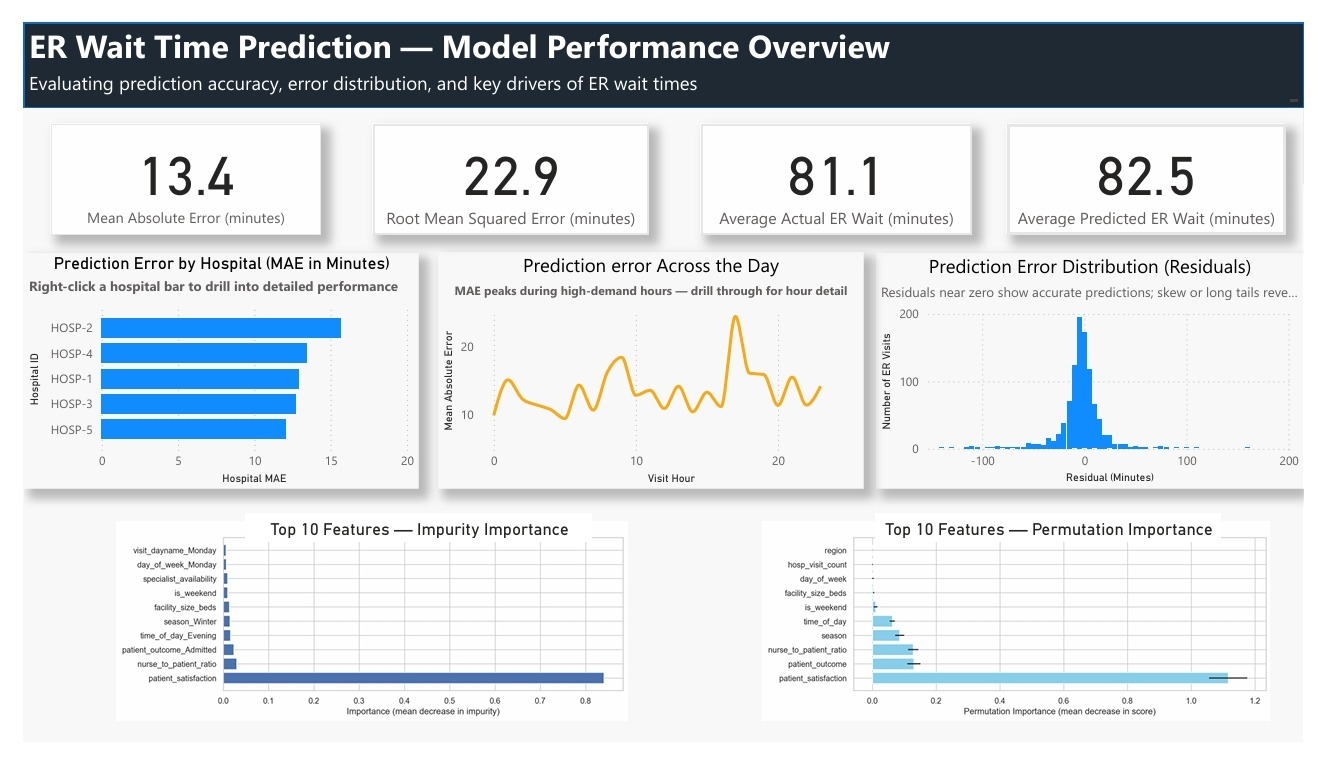

What the dashboard file says about the page in this screenshot:
{"tool":"powerbi","page":{"name":"Overview","canvas":[1280,720],"ordinal":0},"visuals":[{"type":"card","fields":{"Values":["ER_Predictions.Overall_MAE (min)"]},"box":[27.4,101,269.8,111.1],"z":0},{"type":"card","fields":{"Values":["ER_Predictions.Overall_RMSE (min)"]},"box":[349.1,101,275.6,111.1],"z":1000},{"type":"card","fields":{"Values":["ER_Predictions.Avg_Predicted_Wait (min)"]},"box":[982.5,101,279.9,111.1],"z":2000},{"type":"card","fields":{"Values":["ER_Predictions.Avg_Actual_Wait (min)"]},"box":[676.7,101,271.2,111.1],"z":3000},{"type":"clusteredBarChart","title":"Prediction Error by Hospital (MAE in Minutes) ","fields":{"Category":["ER_Predictions.hospital_id"],"Y":["ER_Predictions.MAE_By_Hospital"]},"box":[0,229.7,395.3,235.9],"z":4000},{"type":"lineChart","title":"Prediction error Across the Day","fields":{"Category":["ER_Predictions.visit_hour"],"Y":["ER_Predictions.MAE_By_Hour"]},"box":[414.1,229.4,425.6,236.6],"z":6000},{"type":"clusteredColumnChart","title":"Prediction Error Distribution (Residuals)","fields":{"Category":["ER_Predictions.Residual Bins"],"Y":["ER_Predictions.Visit_Count"]},"box":[851.6,229.7,428.1,235.9],"z":7000},{"type":"image","box":[87.5,476.6,521.9,243.8],"z":8000},{"type":"image","box":[734.4,476.6,517.2,243.8],"z":9000},{"type":"textbox","box":[221.9,490.6,346.9,29.7],"z":10000},{"type":"textbox","box":[851.6,490.6,346.9,29.7],"z":11000},{"type":"shape","box":[0,0,1279.7,85.1],"z":12001},{"type":"textbox","title":"ER Wait Time Prediction — Model Performance Overview","box":[0,0,1279.7,85.1],"z":12501}]}

Visuals, with their boxes in screenshot pixels (x1, y1, x2, y2), scaled from the page's 1280x720 canvas onto the 1327x764 screenshot:
card - ER_Predictions.Overall_MAE (min): bbox=(28, 107, 308, 225)
card - ER_Predictions.Overall_RMSE (min): bbox=(362, 107, 648, 225)
card - ER_Predictions.Avg_Predicted_Wait (min): bbox=(1019, 107, 1309, 225)
card - ER_Predictions.Avg_Actual_Wait (min): bbox=(702, 107, 983, 225)
"Prediction Error by Hospital (MAE in Minutes) " clusteredBarChart: bbox=(0, 244, 410, 494)
"Prediction error Across the Day" lineChart: bbox=(429, 243, 871, 494)
"Prediction Error Distribution (Residuals)" clusteredColumnChart: bbox=(883, 244, 1326, 494)
image: bbox=(91, 506, 632, 763)
image: bbox=(761, 506, 1298, 763)
textbox: bbox=(230, 521, 590, 552)
textbox: bbox=(883, 521, 1243, 552)
shape: bbox=(0, 0, 1326, 90)
"ER Wait Time Prediction — Model Performance Overview" textbox: bbox=(0, 0, 1326, 90)
